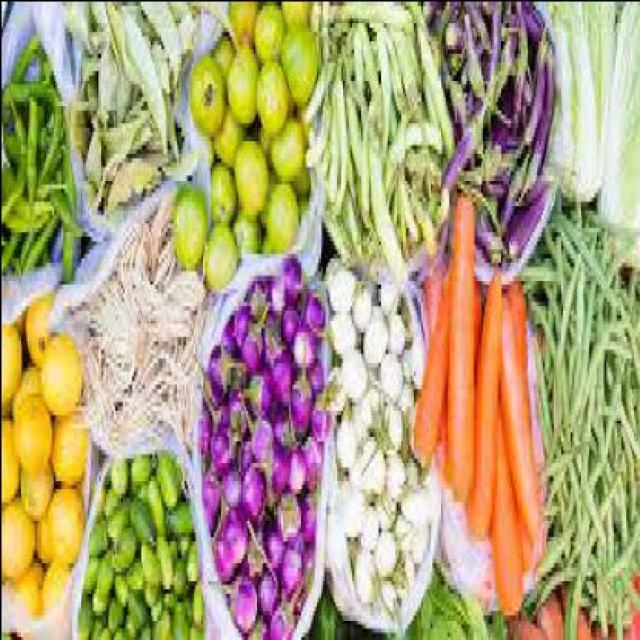BIODEGRADABLE: (550, 0, 619, 188), (102, 2, 180, 152), (598, 2, 638, 263), (501, 283, 541, 535), (583, 260, 639, 429), (547, 196, 610, 344), (471, 261, 502, 536), (448, 187, 475, 496), (119, 2, 172, 148), (416, 261, 452, 470), (548, 401, 618, 501), (542, 261, 578, 444), (493, 388, 521, 614), (88, 270, 148, 375), (411, 557, 491, 635), (512, 274, 533, 571), (372, 122, 411, 275), (124, 348, 194, 432), (573, 313, 627, 418), (146, 266, 202, 362), (416, 9, 452, 157), (522, 35, 558, 179), (426, 252, 448, 478), (86, 335, 131, 440), (441, 105, 487, 200), (388, 113, 444, 187), (398, 144, 440, 239), (39, 480, 84, 566), (508, 166, 552, 252), (326, 74, 352, 218), (41, 326, 82, 409), (106, 152, 160, 214), (612, 409, 638, 537), (588, 501, 612, 636), (534, 510, 583, 575), (465, 112, 509, 183), (279, 18, 319, 96), (556, 248, 582, 366), (526, 13, 551, 135), (138, 5, 179, 78), (1, 492, 37, 574), (176, 174, 210, 260), (170, 1, 238, 44), (304, 74, 334, 166), (190, 48, 225, 126), (577, 366, 598, 496), (206, 213, 240, 292), (348, 10, 379, 96), (237, 126, 269, 209), (226, 35, 260, 113), (265, 174, 300, 248), (329, 2, 420, 30), (16, 396, 55, 461), (119, 213, 153, 287), (102, 108, 142, 170), (312, 575, 352, 636), (54, 408, 88, 479), (272, 109, 306, 180), (265, 322, 293, 408), (149, 191, 174, 287), (26, 278, 54, 362), (22, 448, 55, 518), (392, 27, 418, 113), (258, 57, 288, 131), (606, 504, 639, 570), (362, 90, 381, 204), (608, 566, 638, 636), (380, 25, 402, 118), (353, 427, 384, 491), (504, 1, 550, 44), (444, 64, 471, 136), (226, 570, 260, 627), (222, 488, 248, 562), (466, 10, 488, 96), (270, 575, 301, 636), (132, 87, 163, 148), (559, 575, 590, 636), (2, 314, 23, 404), (345, 66, 360, 192), (14, 352, 46, 410), (242, 452, 268, 523), (98, 30, 120, 113), (254, 1, 286, 57), (291, 352, 312, 436), (2, 410, 23, 492), (242, 305, 268, 370), (212, 414, 243, 466), (342, 339, 368, 401), (17, 553, 45, 610), (208, 339, 238, 392), (212, 156, 237, 218), (132, 575, 157, 636), (280, 248, 305, 309), (339, 475, 364, 536), (487, 0, 504, 88), (216, 105, 242, 162), (565, 557, 584, 635), (64, 2, 96, 48), (131, 488, 157, 544), (278, 536, 304, 592), (366, 296, 388, 361), (212, 26, 237, 83), (45, 548, 69, 606), (222, 452, 246, 510), (378, 561, 404, 614), (278, 483, 302, 540), (313, 370, 335, 432), (215, 518, 237, 579), (160, 448, 182, 506), (331, 262, 358, 309), (112, 69, 134, 126), (339, 392, 355, 470), (92, 2, 119, 48), (112, 519, 138, 566), (555, 226, 568, 319), (473, 266, 485, 366), (407, 514, 428, 571), (381, 392, 402, 448), (539, 588, 564, 635), (248, 361, 270, 414), (205, 457, 224, 518), (356, 544, 378, 596), (378, 522, 404, 566), (332, 304, 358, 348), (295, 318, 319, 365), (68, 92, 92, 139), (381, 348, 402, 401), (382, 444, 407, 488), (84, 117, 102, 178), (294, 122, 312, 183), (252, 401, 273, 453), (151, 35, 174, 82), (508, 606, 544, 636), (273, 396, 295, 444), (359, 492, 381, 540), (347, 178, 362, 248), (518, 252, 558, 278), (308, 283, 326, 340), (149, 471, 165, 535), (426, 1, 457, 34), (142, 535, 163, 583), (362, 380, 386, 422), (199, 396, 215, 458), (246, 518, 265, 570), (402, 483, 433, 514), (233, 214, 261, 248), (269, 440, 291, 483), (448, 13, 466, 65), (595, 352, 608, 423), (257, 571, 278, 614), (201, 366, 222, 409), (109, 452, 131, 492), (282, 296, 304, 336), (376, 483, 398, 523), (289, 435, 305, 488), (108, 492, 129, 532), (227, 383, 248, 423), (169, 501, 196, 532), (388, 304, 407, 348), (156, 531, 172, 583), (302, 483, 318, 535), (233, 296, 252, 339), (267, 265, 284, 313), (304, 431, 321, 478), (356, 279, 373, 326), (395, 506, 414, 548), (300, 540, 315, 592), (252, 270, 268, 318), (265, 526, 284, 566), (177, 2, 197, 40), (78, 584, 94, 631), (97, 548, 114, 592), (175, 592, 192, 636), (90, 513, 108, 553), (108, 592, 125, 632), (401, 370, 414, 422), (186, 536, 202, 578), (132, 453, 157, 479), (173, 552, 189, 592), (232, 344, 248, 384), (484, 606, 505, 636), (220, 318, 238, 352), (332, 357, 342, 418), (93, 606, 112, 636), (545, 205, 558, 248), (284, 1, 310, 22), (155, 606, 173, 636), (82, 48, 100, 78), (96, 470, 109, 510), (191, 574, 204, 614), (309, 352, 325, 383), (259, 121, 275, 152), (117, 562, 129, 602), (93, 579, 109, 601), (90, 74, 98, 114), (112, 618, 128, 636), (107, 483, 119, 505), (181, 532, 193, 553), (188, 618, 201, 636), (250, 615, 268, 627)
